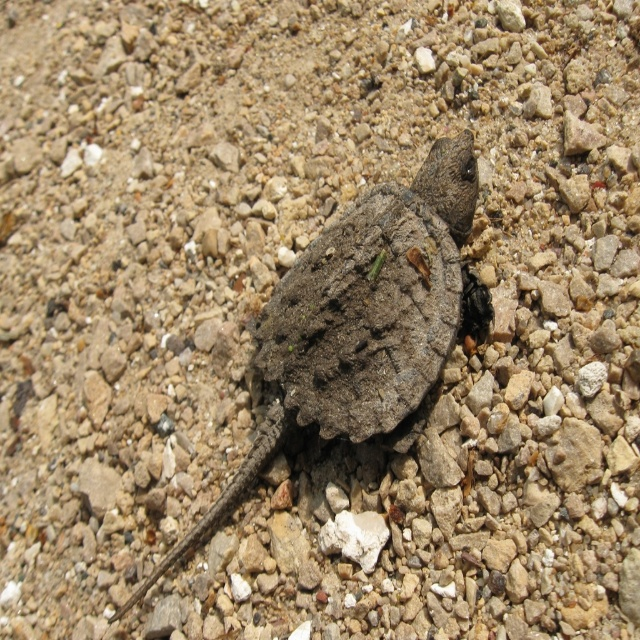Lizard: (95, 179, 471, 631)
